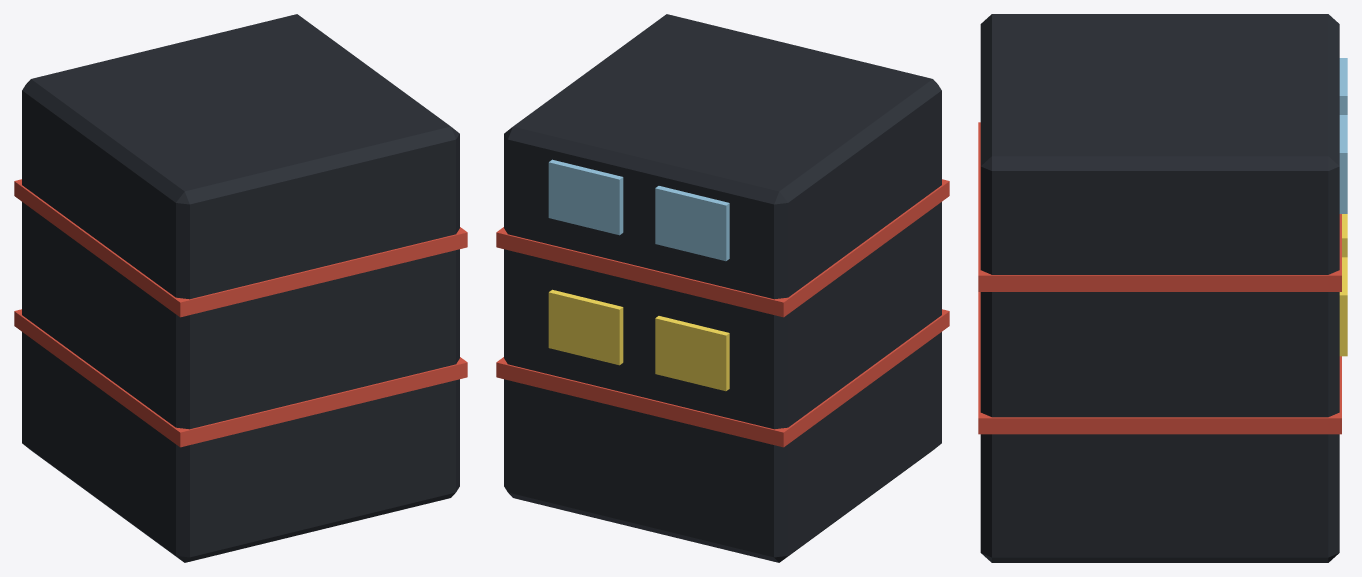
Rendered from house_modern.glb.
3 views of the same model, side by side, from view 1: azimuth 30°, elevation 25°; view 2: azimuth 150°, elevation 25°; view 3: azimuth 270°, elevation 25° (orthographic). The views are drawn at different scales.
Parts seen in each view (by area): view 1: house_modern; view 2: house_modern; view 3: house_modern.
Part boxes in pixels (x1=…): house_modern: x1=14, y1=14, x2=467, y2=562; house_modern: x1=496, y1=14, x2=949, y2=562; house_modern: x1=978, y1=14, x2=1347, y2=562.
Bounding box in the file's own units: 1.62 × 2 × 1.64.
Materials: 1 (1 with a texture image).
